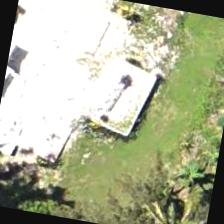Kelapa_Sawit: (126, 178, 213, 223)
